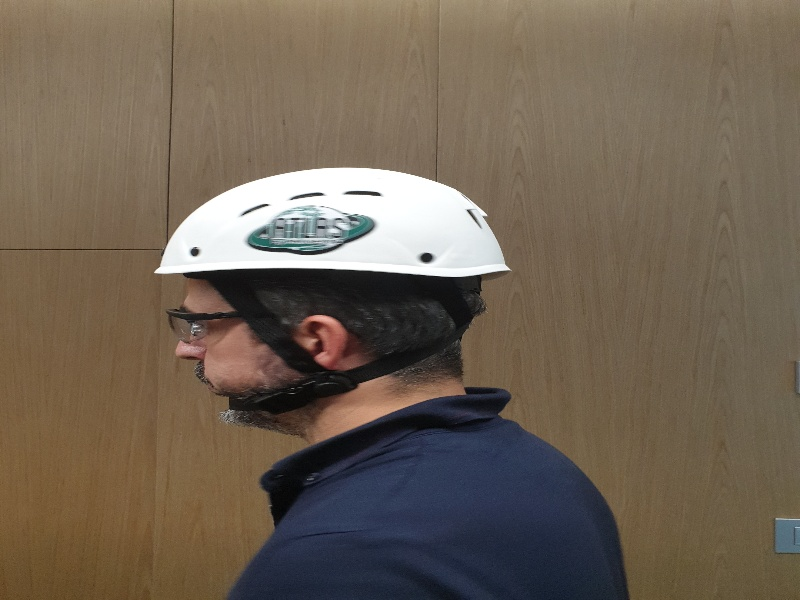Baret: (150, 167, 514, 282)
